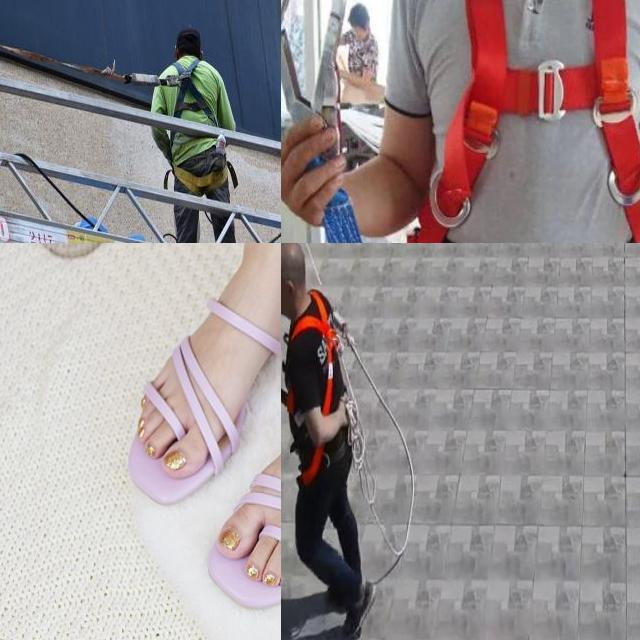Harness: (486, 0, 640, 243), (336, 319, 415, 584), (291, 290, 340, 418), (157, 60, 218, 126)
Sandals: (88, 243, 281, 640)
